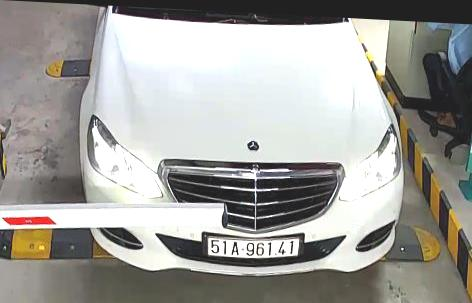License_Plate: (201, 227, 306, 265)
